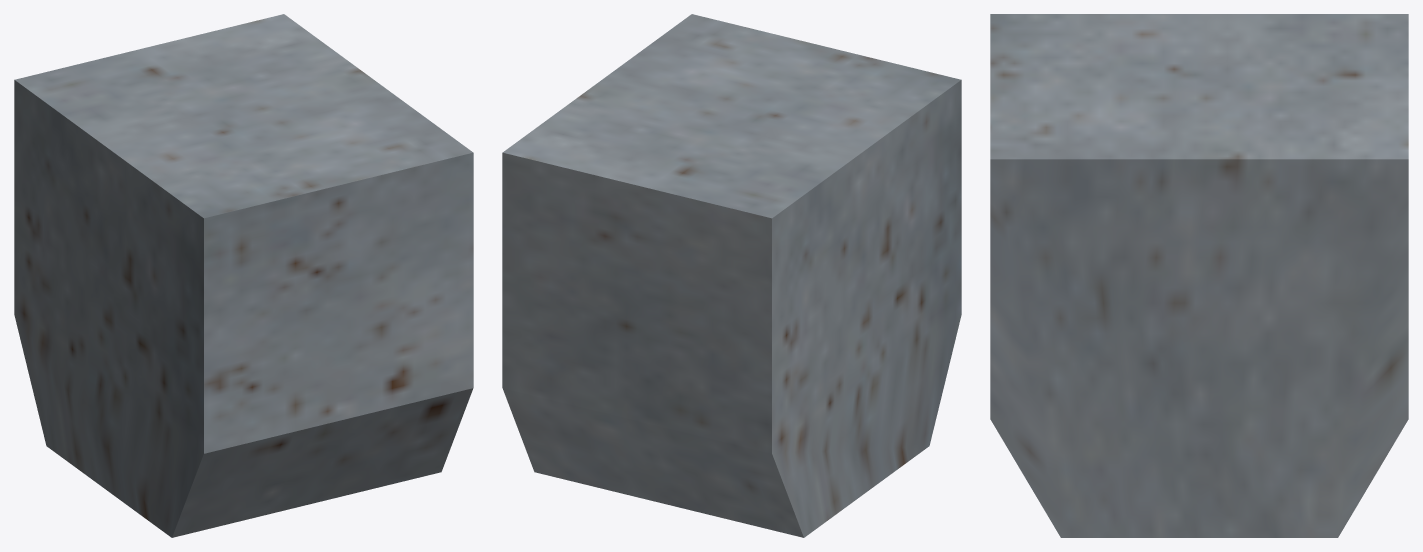
Rendered from Ob_SupportDetail_RC.fbx.
The picture shows the model from 3 angles, left to right: view 1: azimuth 30°, elevation 25°; view 2: azimuth 150°, elevation 25°; view 3: azimuth 270°, elevation 25°; orthographic projection. The views are drawn at different scales.
Parts seen in each view (by area): view 1: Ob_SupportDetail_RC; view 2: Ob_SupportDetail_RC; view 3: Ob_SupportDetail_RC.
Boxes of the visible parts, x1,y1,x2,y2 form: Ob_SupportDetail_RC: (14,14,473,537); Ob_SupportDetail_RC: (502,14,961,537); Ob_SupportDetail_RC: (990,14,1408,537).
Bounding box in the file's own units: 63.71 × 77.43 × 77.5.
